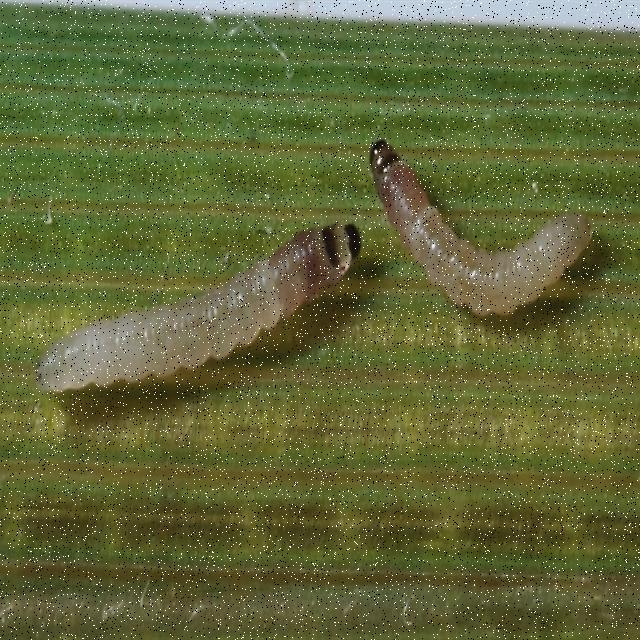army worm: (24, 184, 373, 454), (372, 111, 609, 326)
